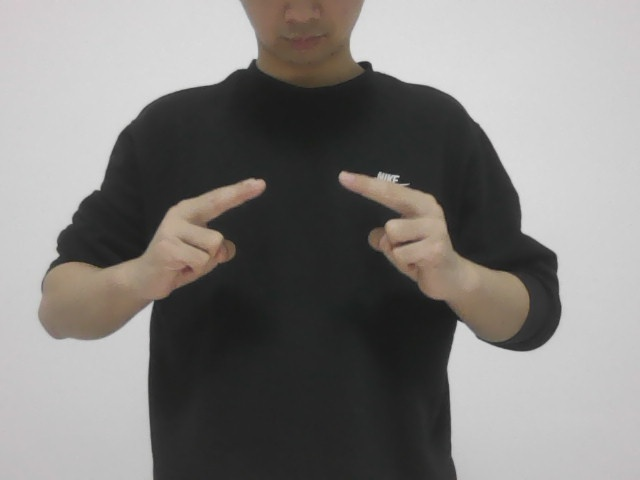know: (135, 162, 462, 325)
